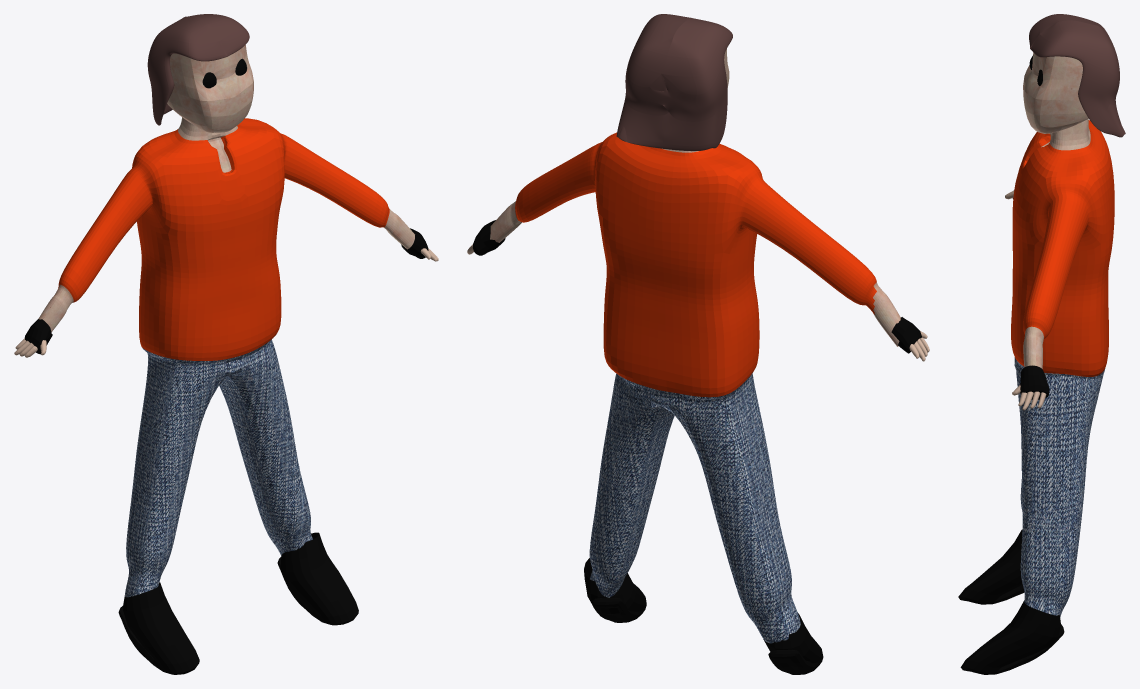
File: personagem.fbx
The picture shows the model from 3 angles, left to right: view 1: azimuth 30°, elevation 25°; view 2: azimuth 150°, elevation 25°; view 3: azimuth 270°, elevation 25°; orthographic projection. The views are drawn at different scales.
Parts seen in each view (by area): view 1: Cube.001; view 2: Cube.001; view 3: Cube.001, Circle.005.
Part boxes in pixels (box(x1,y1,x2,y2)): Cube.001: box(38, 14, 414, 674); Cube.001: box(490, 14, 900, 674); Cube.001: box(958, 14, 1125, 674); Circle.005: box(1020, 365, 1049, 399).
Bounding box in the file's own units: 150 × 206 × 50.82.
Materials: 9 (2 with a texture image).
